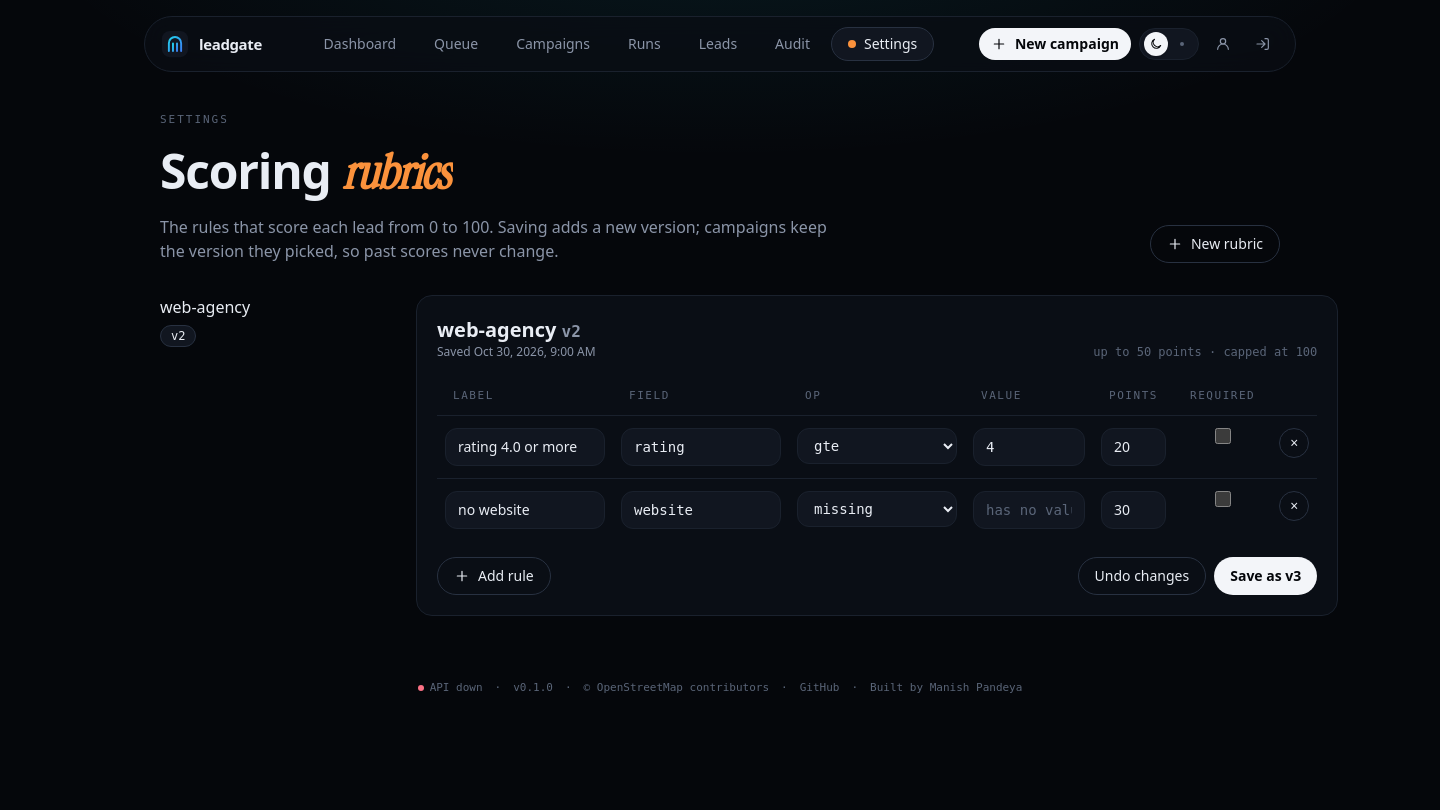
Scenario: RubricsPage › shows the API's refusal
Click the button "Save as v3". click: point(1266, 576)
box: [1214,557,1317,595]
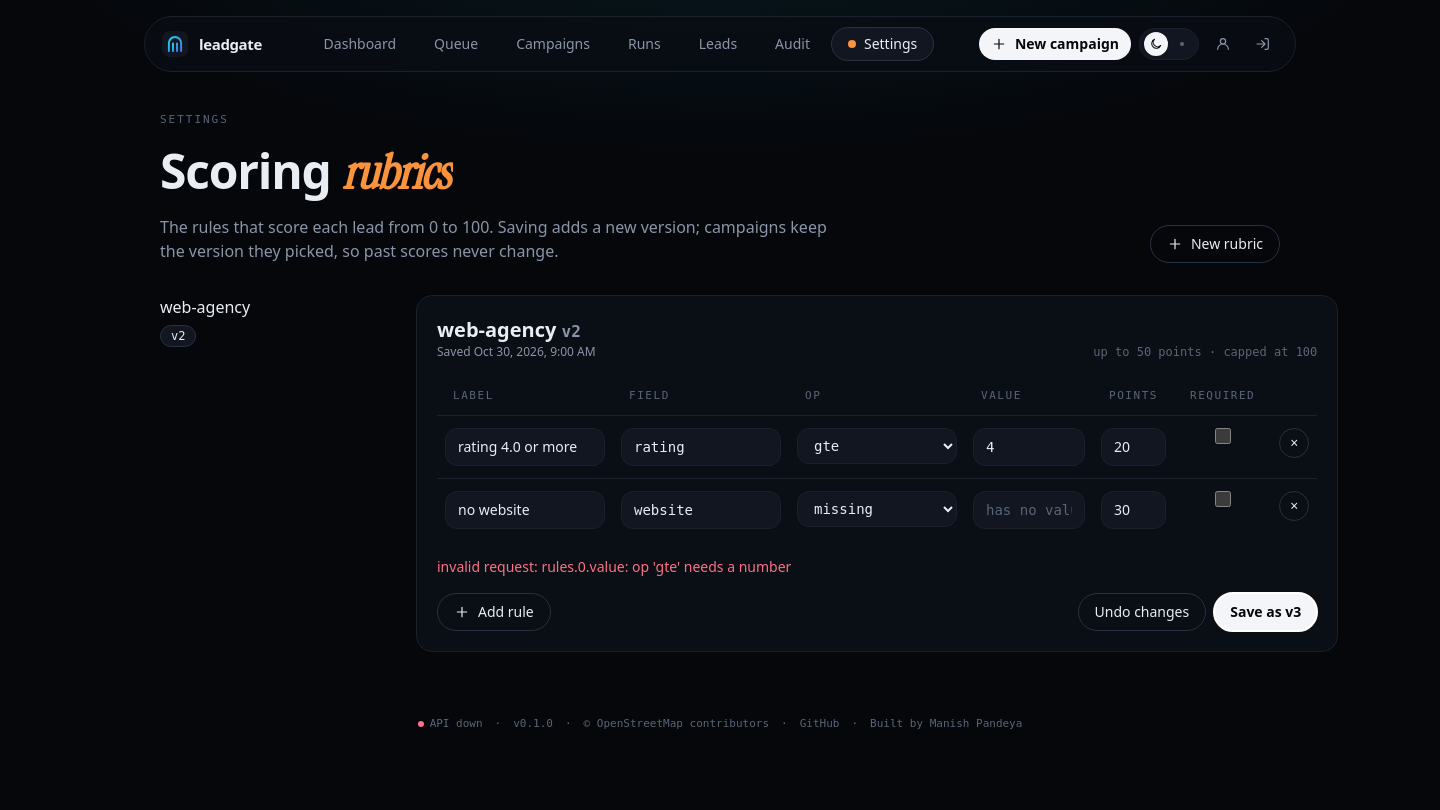
Check: the message shows "rules.0.value: op 'gte' needs a number", box [437,557,791,576]
